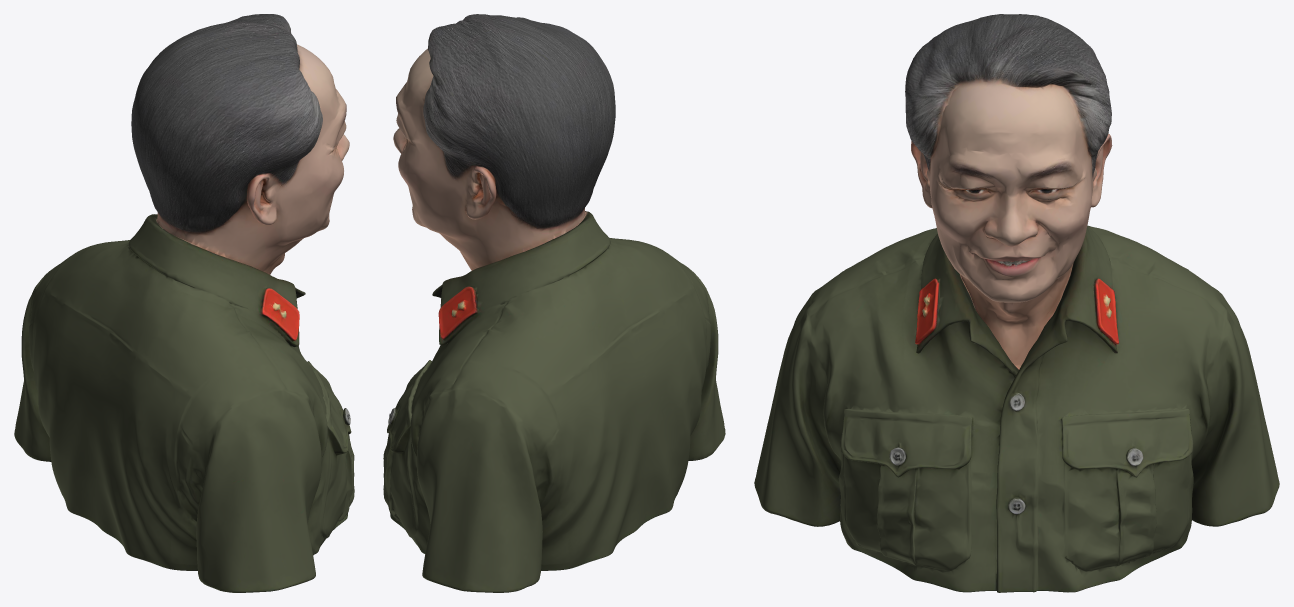
The model's file is vo_nguyen_giap.glb.
3 renders of one model, left to right at view 1: azimuth 30°, elevation 25°; view 2: azimuth 150°, elevation 25°; view 3: azimuth 270°, elevation 25°, orthographic. The views are drawn at different scales.
Parts seen in each view (by area): view 1: tripo_node_36e81956-2f76-496f-b781-bbf7ba58d43a; view 2: tripo_node_36e81956-2f76-496f-b781-bbf7ba58d43a; view 3: tripo_node_36e81956-2f76-496f-b781-bbf7ba58d43a.
Part boxes in pixels (bbox=[...]): tripo_node_36e81956-2f76-496f-b781-bbf7ba58d43a: bbox=[14, 14, 354, 592]; tripo_node_36e81956-2f76-496f-b781-bbf7ba58d43a: bbox=[383, 14, 725, 592]; tripo_node_36e81956-2f76-496f-b781-bbf7ba58d43a: bbox=[754, 14, 1279, 592].
Bounding box in the file's own units: 0.5702 × 1 × 0.9169.
1 material, 1 textured.
